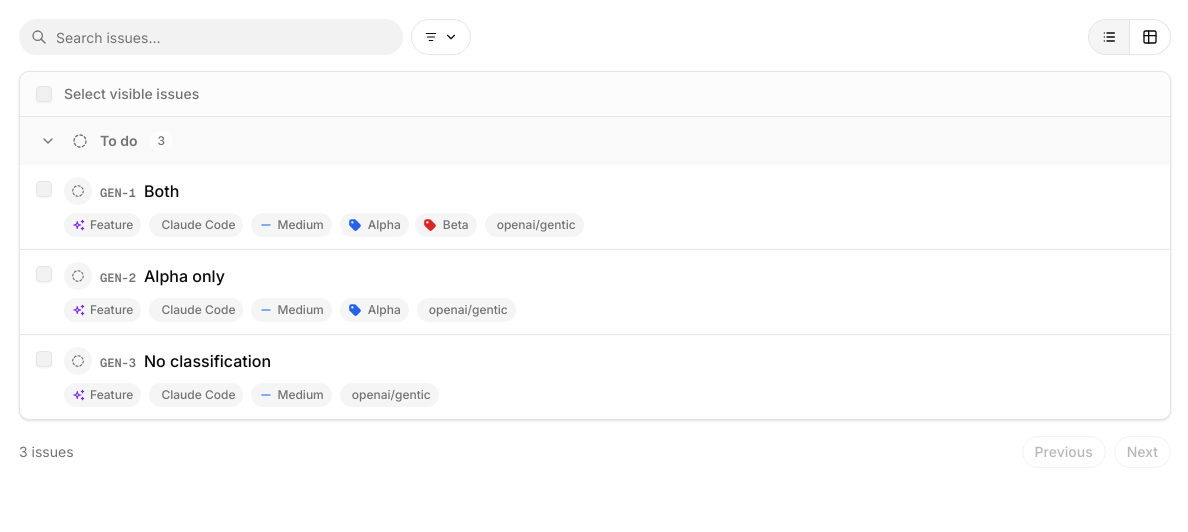
Scenario: IssuesView Label discovery › searches Label names and combines Label filters with match-all semantics
The width and height of the screenshot is (1188, 532).
In the field with placeholder "Search issues…": {"x": 211, "y": 37} [19, 19, 403, 55], type "bEtA"
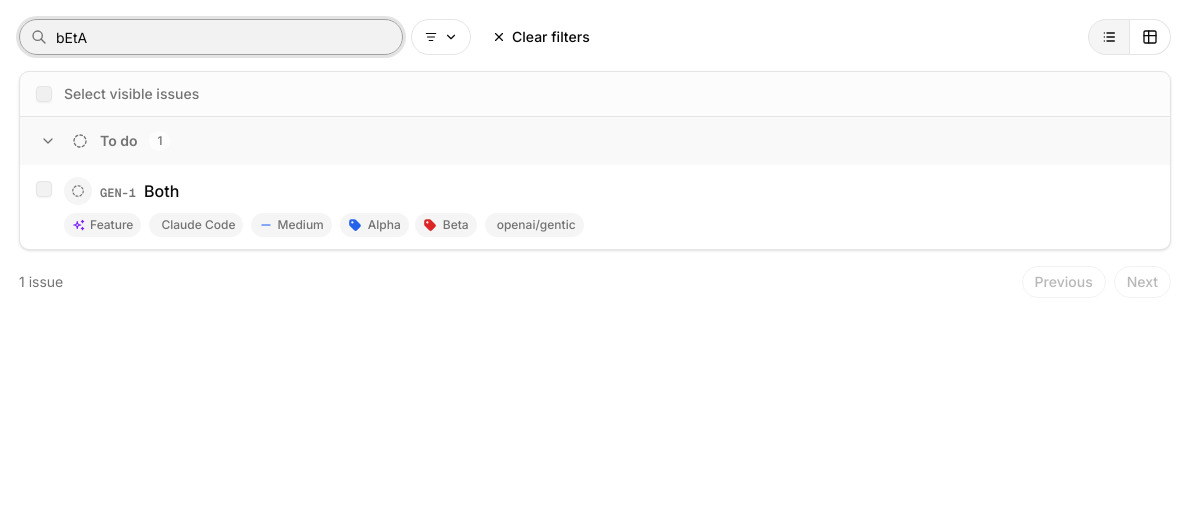
expect the text "Both" is shown: met, box [144, 179, 179, 203]
expect the link "Alpha only" is gone: met
Clear the field with placeholder "Search issues…": {"x": 211, "y": 37} [19, 19, 403, 55]
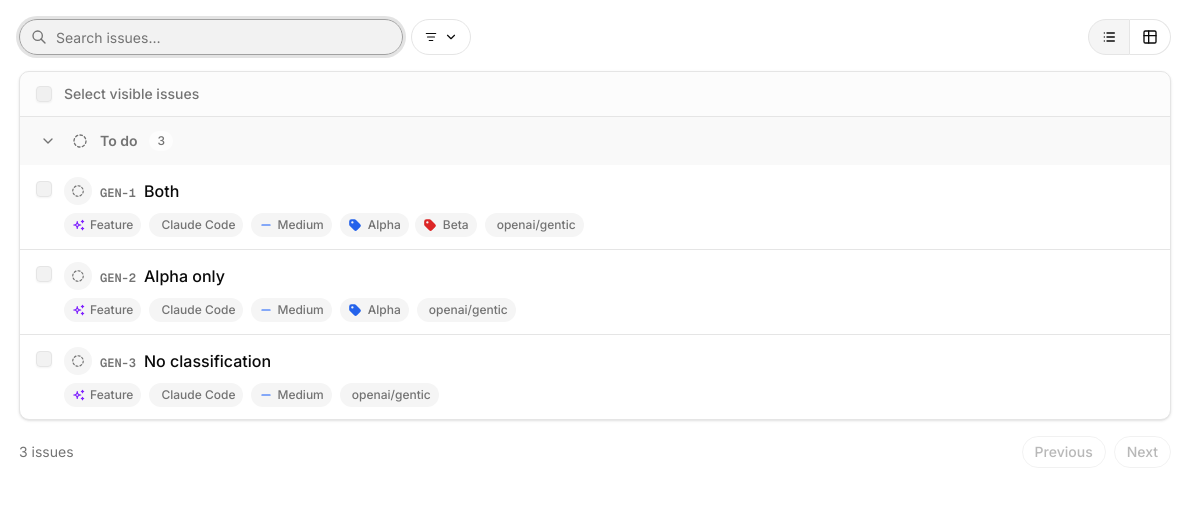
Click the button named "Filters": {"x": 441, "y": 37} [411, 19, 471, 55]
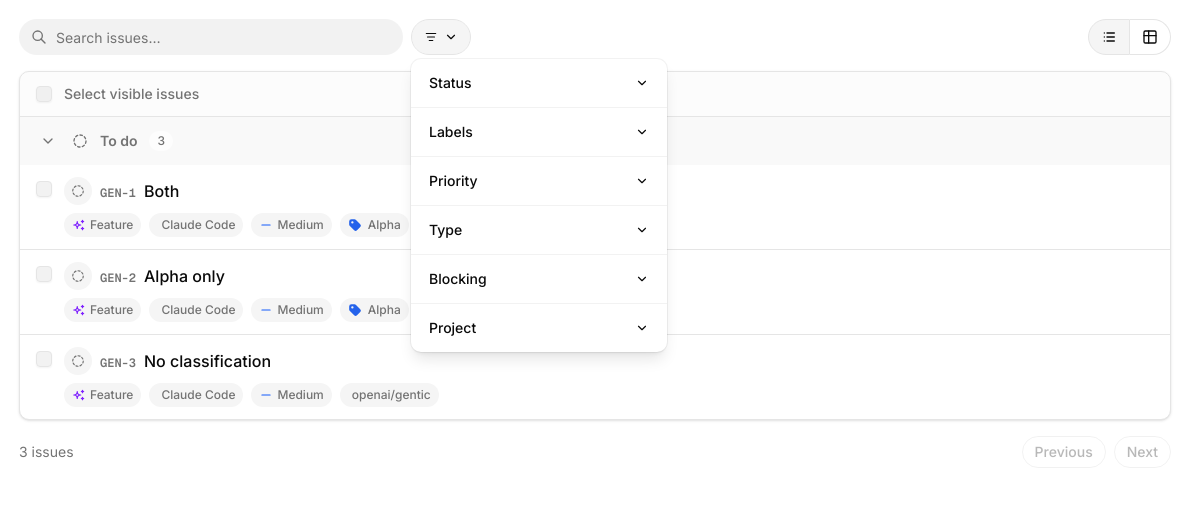
Click the menu item "Labels": {"x": 451, "y": 132} [429, 123, 649, 140]
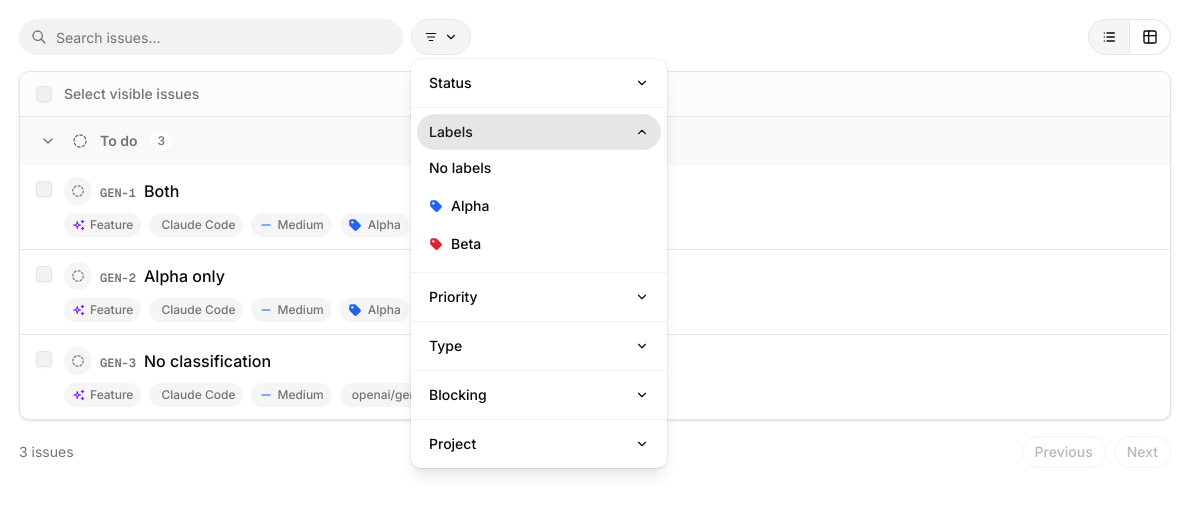
Click the menu item "Alpha": {"x": 459, "y": 206} [429, 197, 490, 214]
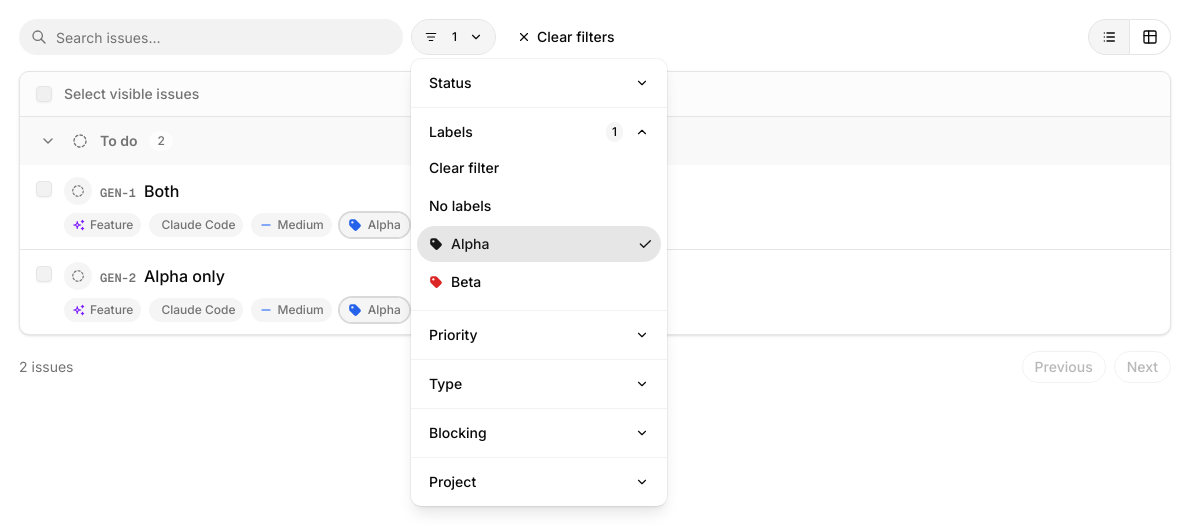
Click the menu item "Beta": {"x": 455, "y": 282} [429, 273, 481, 290]
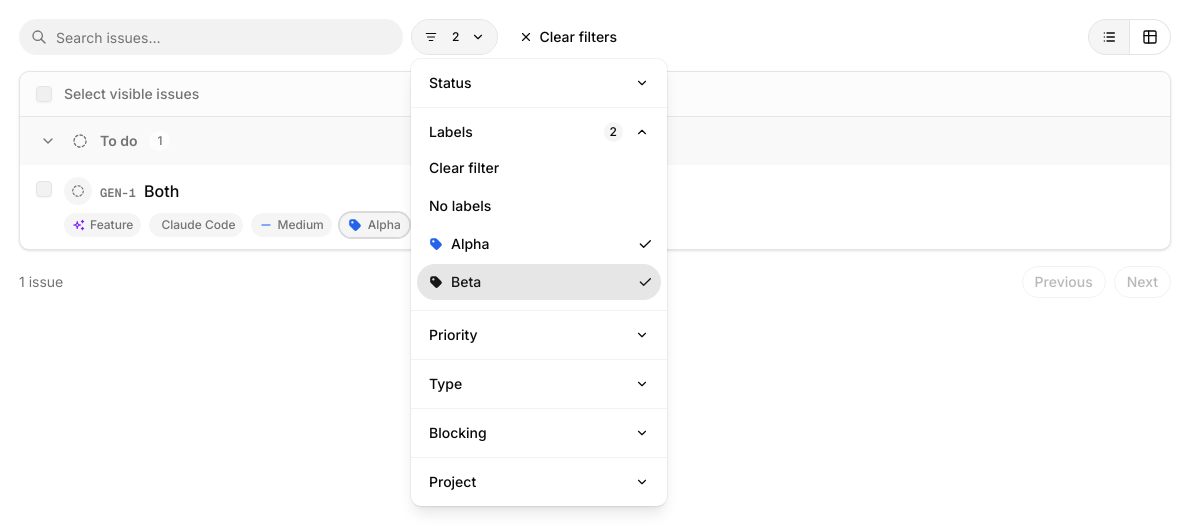
expect the text "Both" is shown: met, box [144, 179, 179, 203]
expect the link "Alpha only" is gone: met
